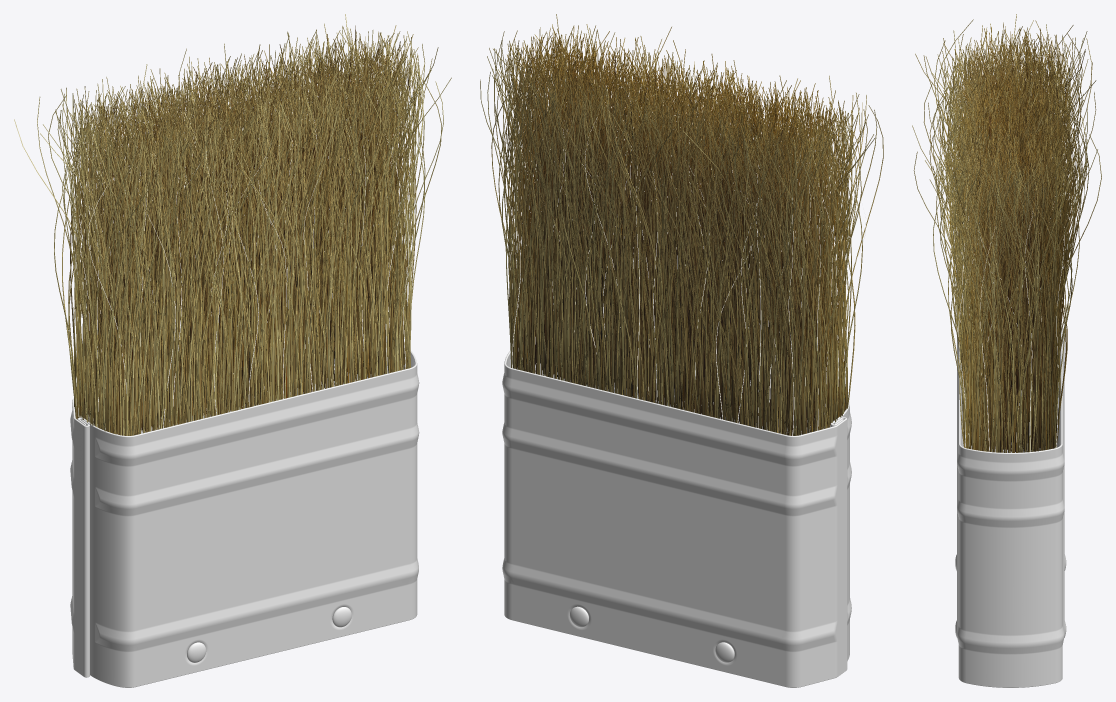
Rendered from mao.glb.
3 views of the same model, side by side, from view 1: azimuth 30°, elevation 25°; view 2: azimuth 150°, elevation 25°; view 3: azimuth 270°, elevation 25° (orthographic). The views are drawn at different scales.
Parts seen in each view (by area): view 1: mao1, jinshujian, mao2; view 2: mao1, jinshujian, mao2, ding; view 3: mao1, jinshujian, mao2.
Part boxes in pixels (x1,y1,x2,y2): mao1: (14, 14, 451, 435); jinshujian: (70, 350, 419, 687); mao2: (70, 113, 414, 428); mao1: (480, 14, 883, 435); jinshujian: (502, 348, 851, 687); mao2: (503, 109, 866, 435); ding: (569, 606, 734, 662); mao1: (912, 14, 1101, 452); jinshujian: (957, 318, 1064, 687); mao2: (949, 114, 1064, 451).
Bounding box in the file's own units: 0.61 × 0.8449 × 0.2787.
Materials: 3 (1 with a texture image).
